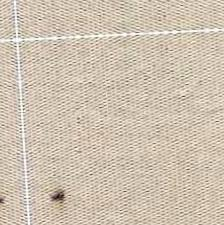stain: (48, 186, 68, 205), (1, 194, 7, 207)
